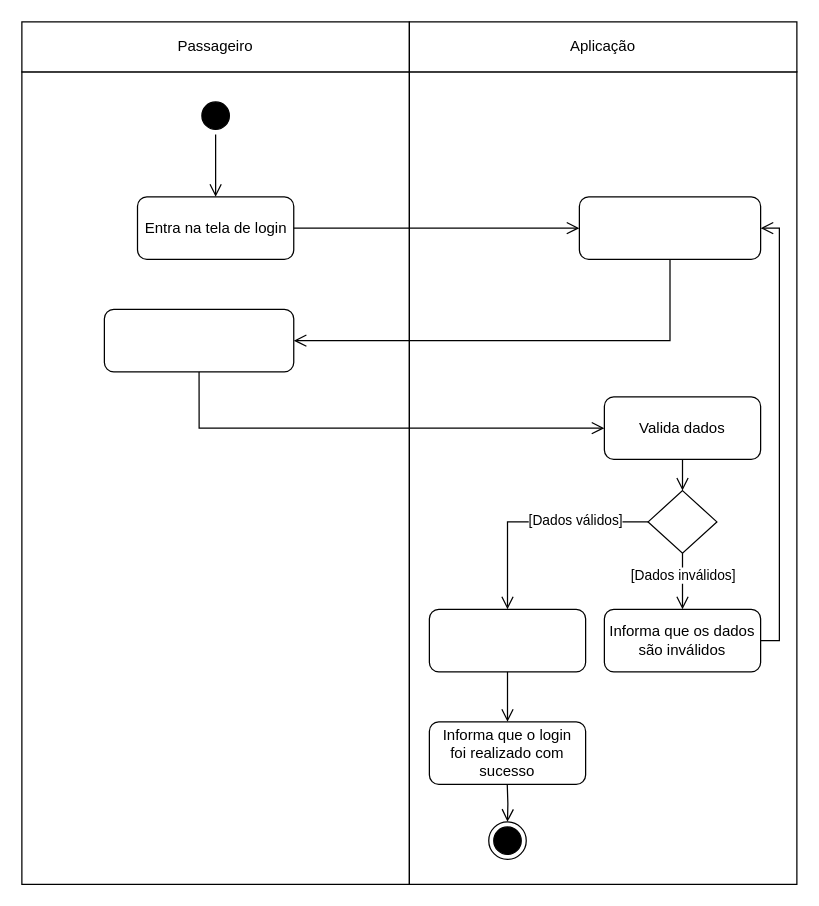
Some shapes in this 819 by 906 pixel diagram are drawn without their labels. The centre of each missing label's shape, as x and y in pixels:
Insere dados (CPF, Nome, Senha, Passaporte, Telefone, País): the point at 198,340
Pede dados (CPF, Nome, Senha, Passaporte, Telefone, País): the point at 669,227
Realiza login com os dados: the point at 507,640
